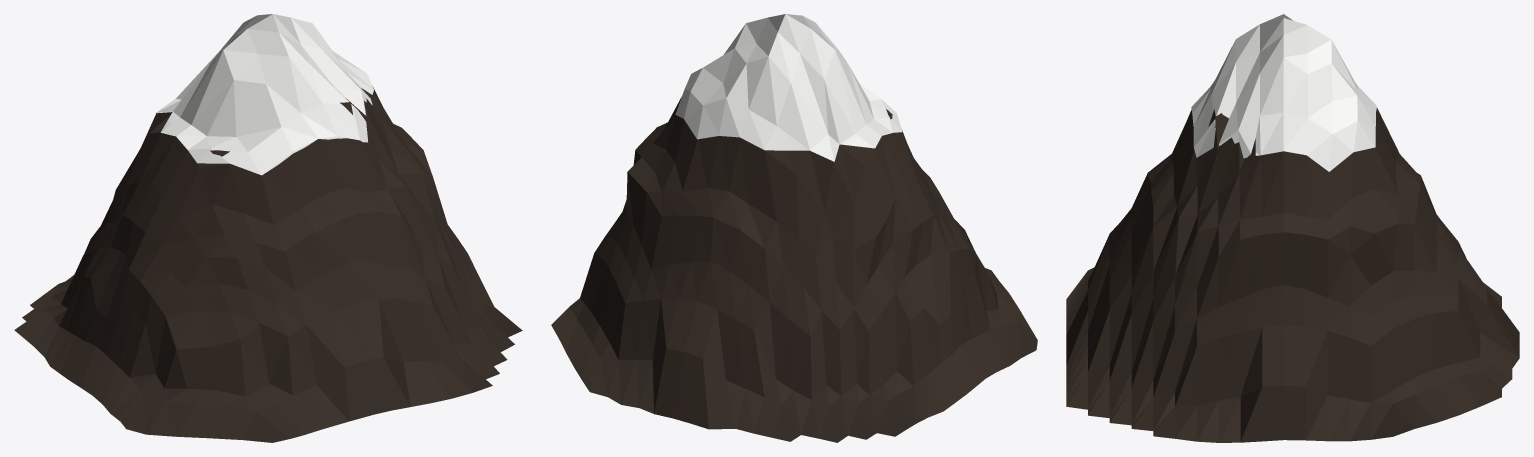
The model's file is Mountain_W_Top_2.fbx.
3 renders of one model, left to right at view 1: azimuth 30°, elevation 25°; view 2: azimuth 150°, elevation 25°; view 3: azimuth 270°, elevation 25°, orthographic. The views are drawn at different scales.
Visible parts, largest first — view 1: Mountain07; view 2: Mountain07; view 3: Mountain07.
Boxes of the visible parts, x1=… form: Mountain07: x1=14, y1=14, x2=522, y2=442; Mountain07: x1=551, y1=14, x2=1037, y2=442; Mountain07: x1=1066, y1=14, x2=1519, y2=442.
Size of the model in its own units: 8241 by 6722 by 8156.
1 material, 1 textured.
